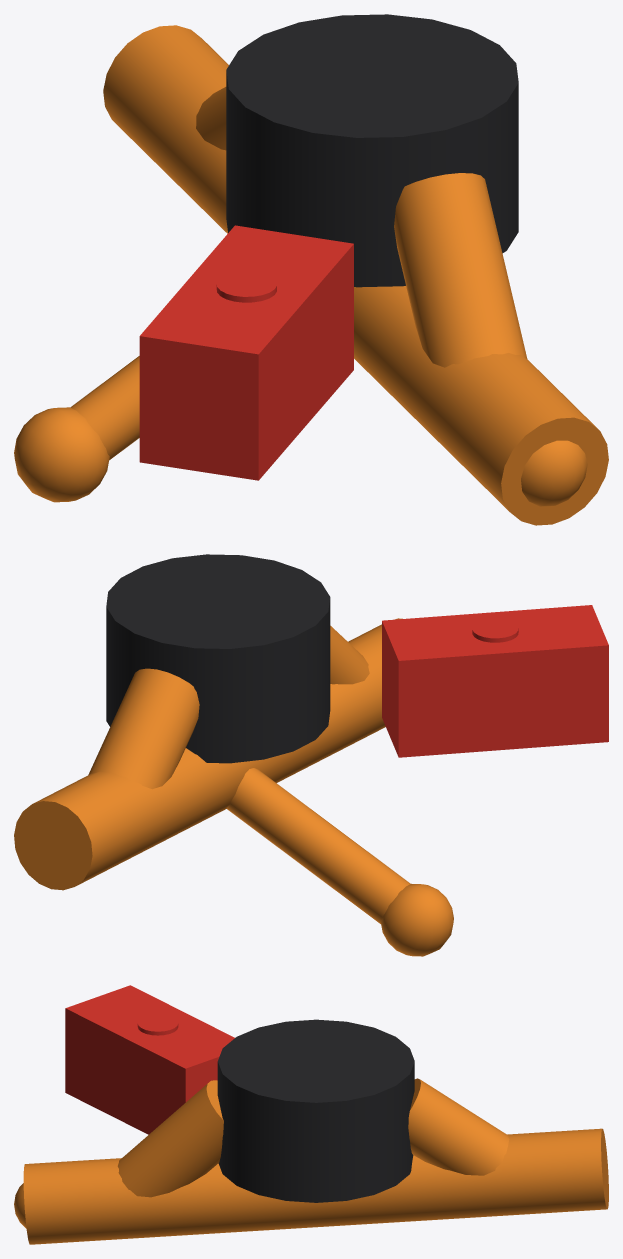
Rendered from fl_upright.gltf.
3 renders of one model, top to bottom at view 1: azimuth 30°, elevation 25°; view 2: azimuth 150°, elevation 25°; view 3: azimuth 270°, elevation 25°, orthographic. The views are drawn at different scales.
Visible parts, largest first — view 1: fl_upright; view 2: fl_upright; view 3: fl_upright.
Part boxes in pixels (bbox=[...]): fl_upright: bbox=[14, 14, 608, 525]; fl_upright: bbox=[14, 554, 608, 956]; fl_upright: bbox=[14, 985, 608, 1244].
Size of the model in its own units: 0.2273 by 0.1616 by 0.3503.
